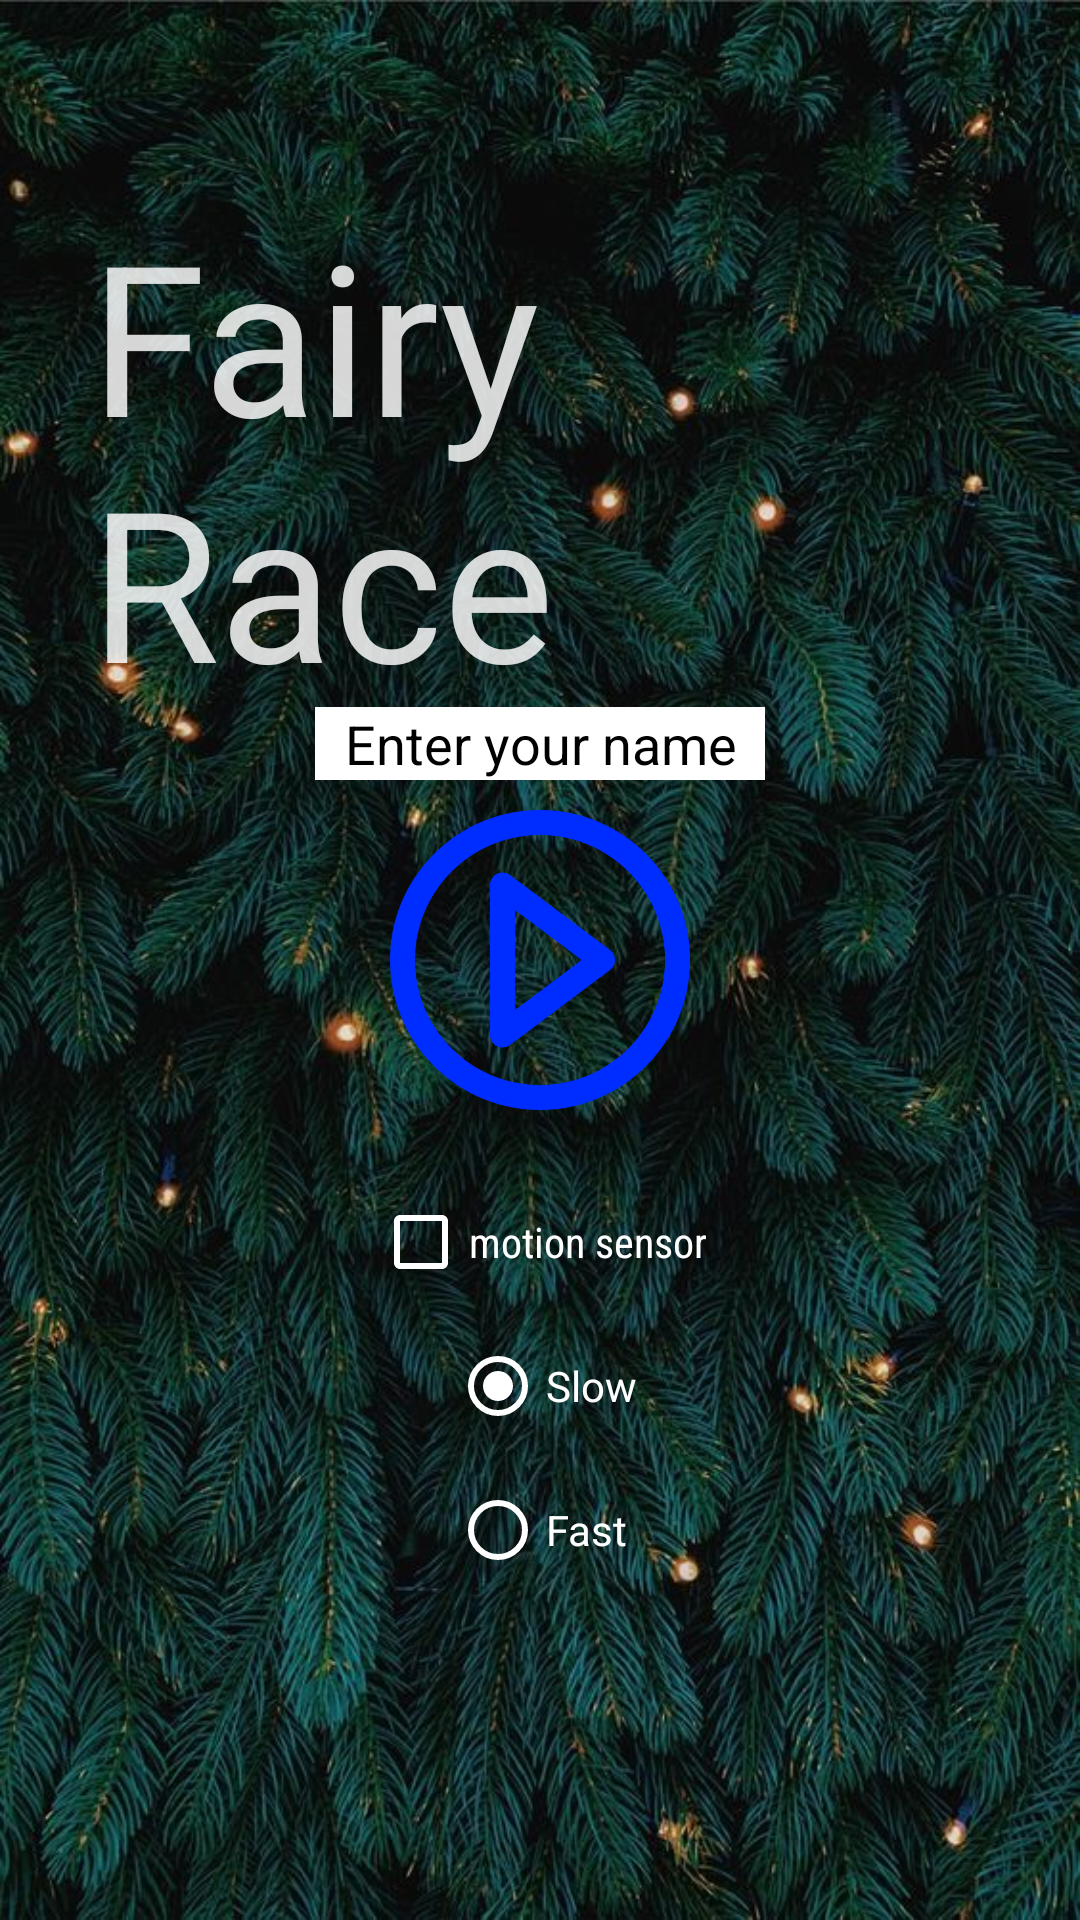

Named icons in this screenshot (1080 x 1920) and their centers, (x=x, y=y):
resume: (x=540, y=960)
